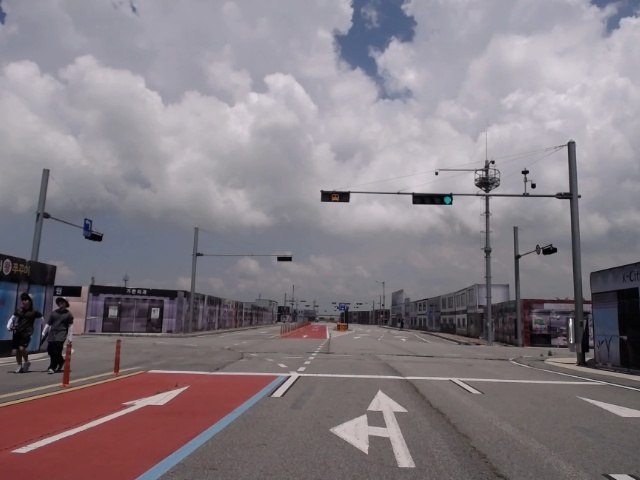straight_green_4: (411, 193, 453, 206)
